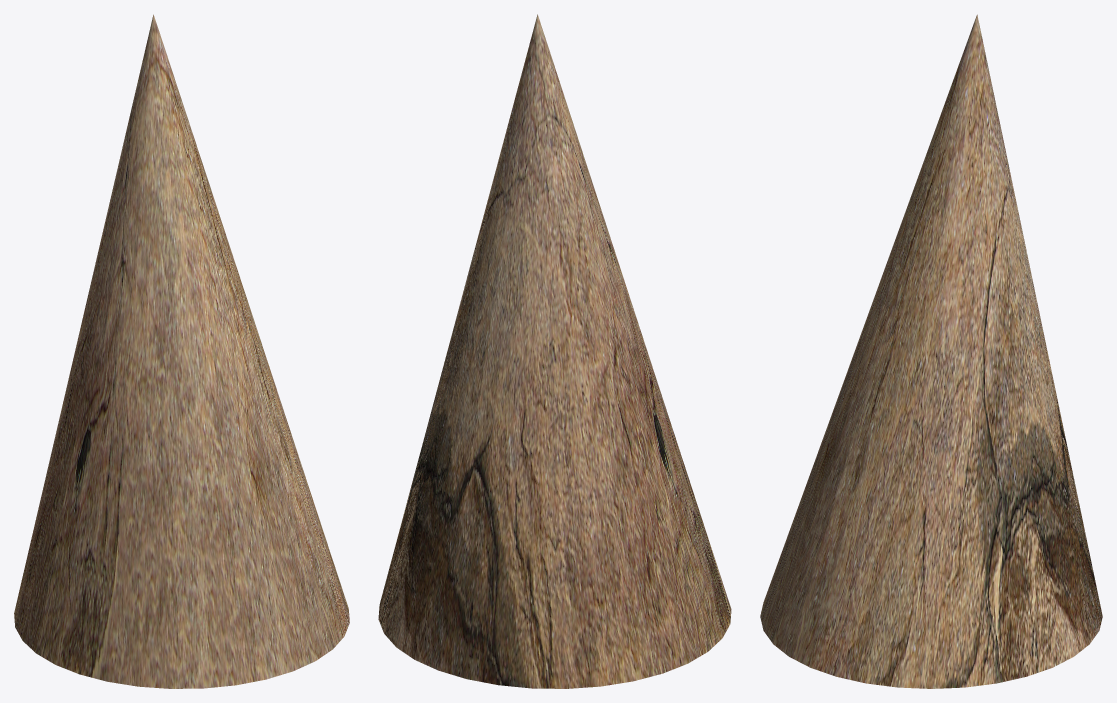
File: spike.fbx
3 renders of one model, left to right at view 1: azimuth 30°, elevation 25°; view 2: azimuth 150°, elevation 25°; view 3: azimuth 270°, elevation 25°, orthographic. The views are drawn at different scales.
Visible parts, largest first — view 1: spike; view 2: spike; view 3: spike.
Boxes of the visible parts, box(x1,y1,x2,y2) form: spike: box(14, 14, 349, 688); spike: box(378, 14, 731, 688); spike: box(760, 14, 1102, 688).
Size of the model in its own units: 200 by 386 by 200.
Materials: 1 (1 with a texture image).
